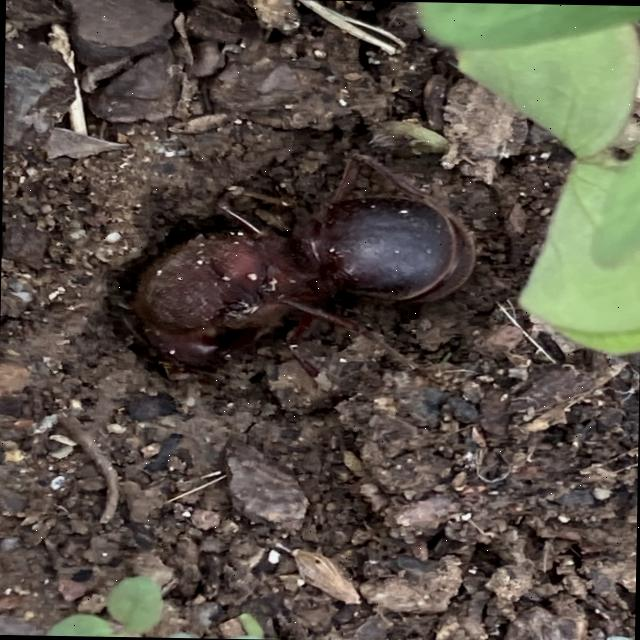Alive-Female-Dealate: (128, 148, 478, 388)
